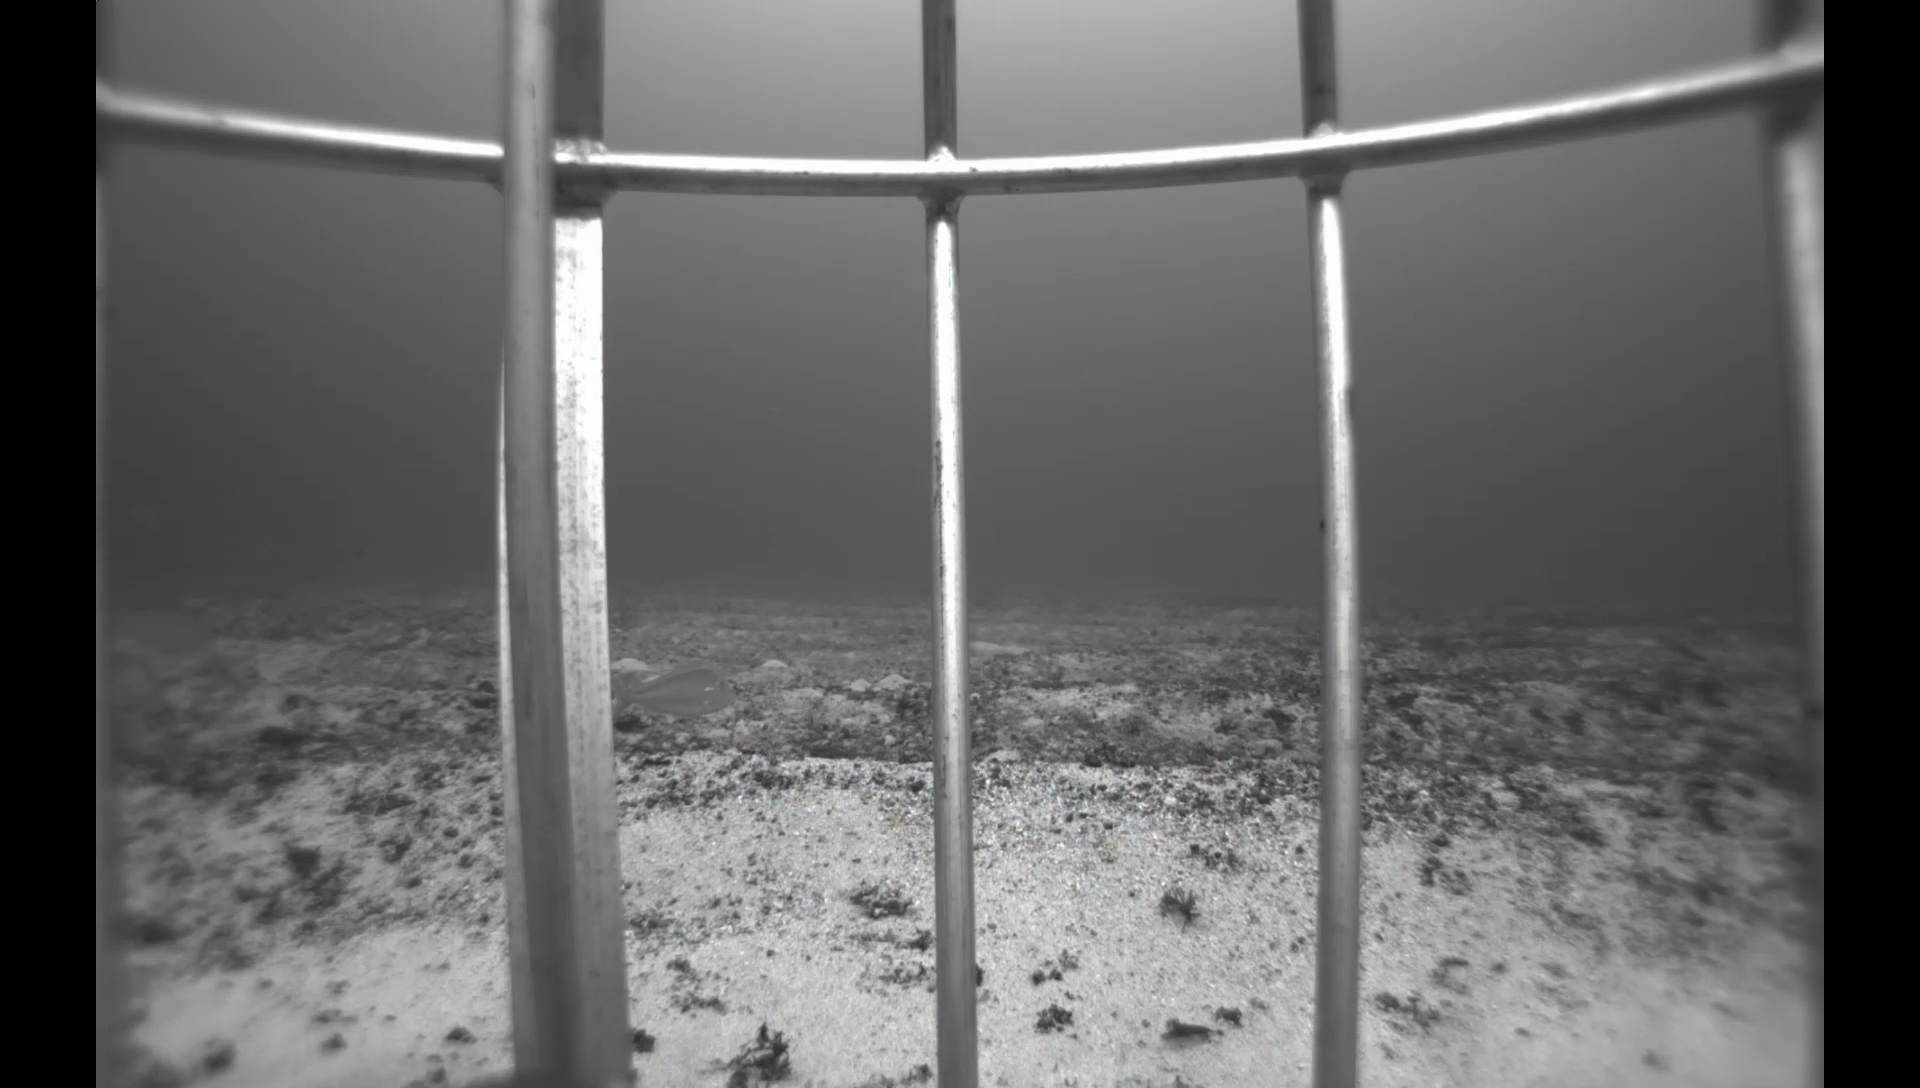CALAMUSPRORIDENS-170210605: (611, 651, 752, 729), (108, 601, 222, 665)
